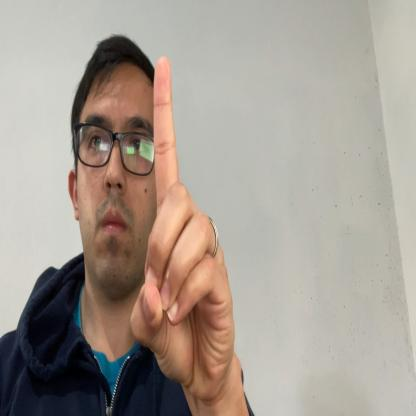D: (129, 56, 235, 394)
